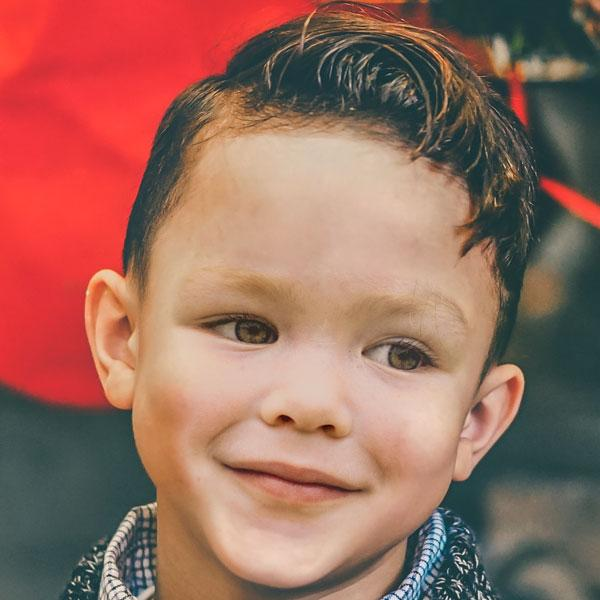Eyes: (186, 292, 288, 361), (351, 323, 444, 388)
